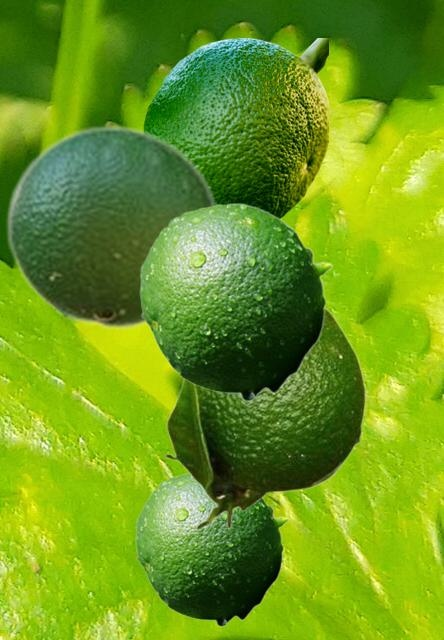dalandan: (163, 307, 365, 530), (5, 124, 219, 330), (139, 202, 332, 401), (143, 38, 327, 218), (135, 473, 288, 626)
